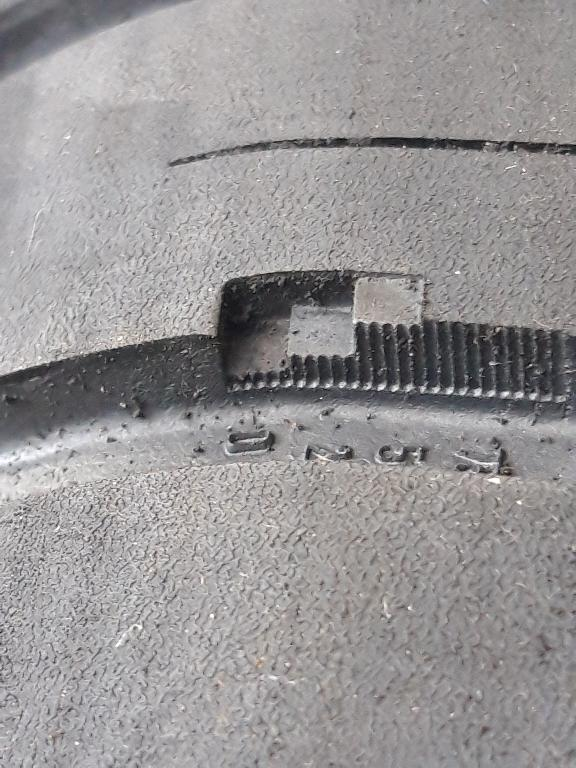temoin:50: (196, 250, 444, 414)
